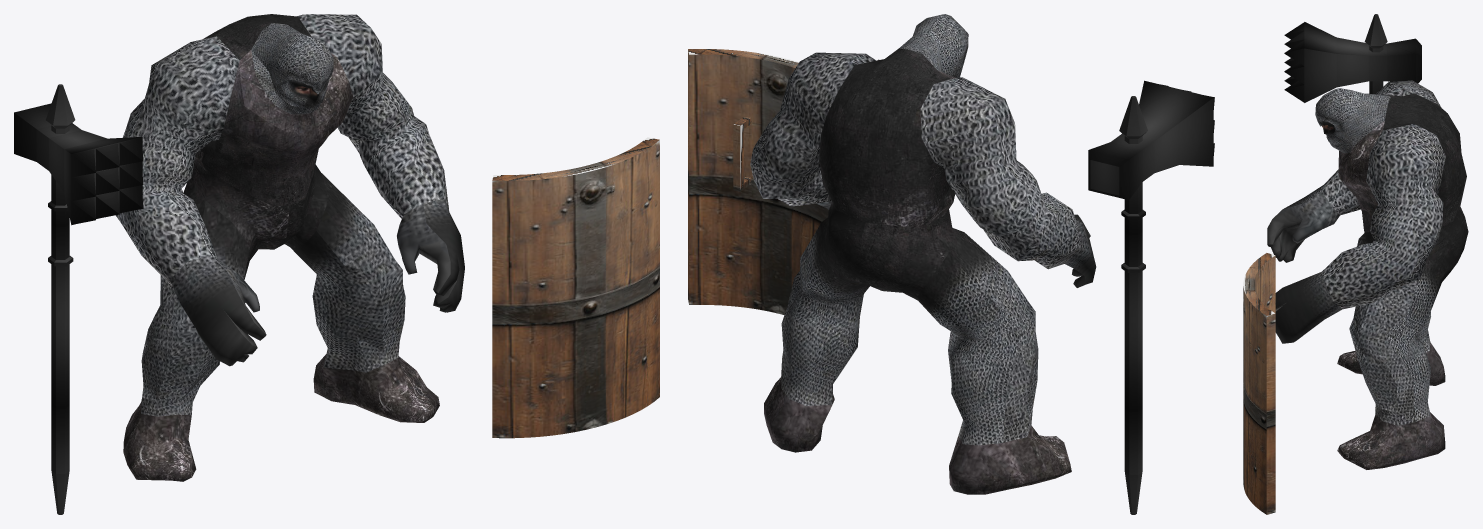
Rendered from boss.FBX.
3 views of the same model, side by side, from view 1: azimuth 30°, elevation 25°; view 2: azimuth 150°, elevation 25°; view 3: azimuth 270°, elevation 25° (orthographic). The views are drawn at different scales.
Visible parts, largest first — view 1: Object002, Box003, Cylinder003; view 2: Object002, Box003, Cylinder003; view 3: Object002, Box003, Cylinder003.
Boxes of the visible parts, bbox=[...] form: Object002: bbox=[116, 14, 464, 481]; Box003: bbox=[492, 137, 659, 438]; Cylinder003: bbox=[14, 84, 143, 514]; Object002: bbox=[750, 14, 1096, 494]; Box003: bbox=[688, 49, 828, 314]; Cylinder003: bbox=[1088, 80, 1214, 514]; Object002: bbox=[1267, 80, 1468, 469]; Box003: bbox=[1243, 253, 1275, 514]; Cylinder003: bbox=[1284, 14, 1421, 102].
Bounding box in the file's own units: 212 × 159 × 94.75.
